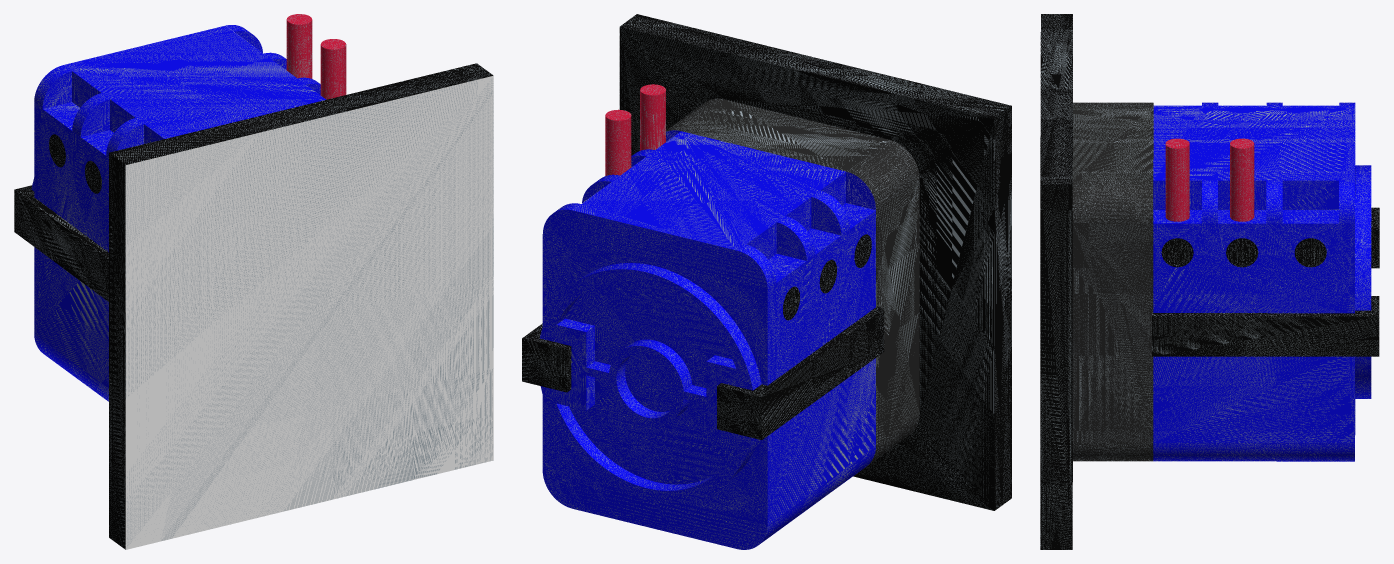
File: back port.dae
3 renders of one model, left to right at view 1: azimuth 30°, elevation 25°; view 2: azimuth 150°, elevation 25°; view 3: azimuth 270°, elevation 25°, orthographic. The views are drawn at different scales.
Parts seen in each view (by area): view 1: SketchUp (×6); view 2: SketchUp (×10); view 3: SketchUp (×10).
Part boxes in pixels (bbox=[...]): SketchUp (×6): bbox=[14, 14, 493, 549]; SketchUp (×10): bbox=[522, 14, 1011, 549]; SketchUp (×10): bbox=[1040, 14, 1379, 549].
Bounding box in the file's own units: 1.97 × 1.66 × 1.97.
